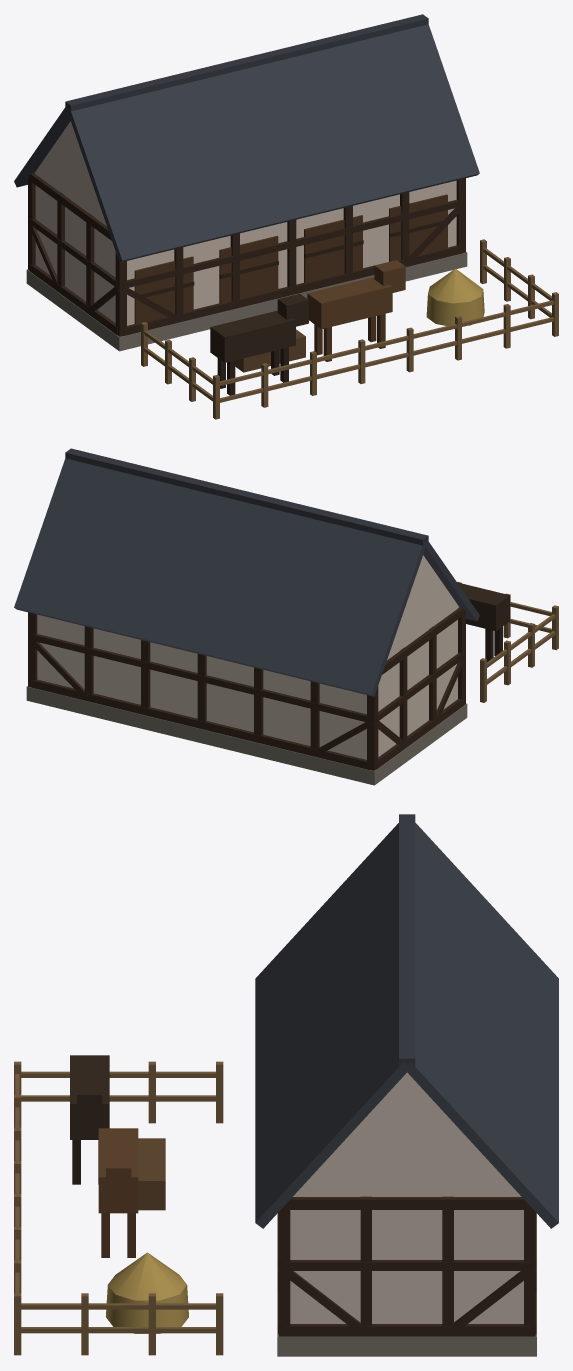
Rendered from procedural_stable@3.glb.
3 renders of one model, top to bottom at view 1: azimuth 30°, elevation 25°; view 2: azimuth 150°, elevation 25°; view 3: azimuth 270°, elevation 25°, orthographic. The views are drawn at different scales.
Parts seen in each view (by area): view 1: part_0; view 2: part_0; view 3: part_0.
Part boxes in pixels (x1,y1,x2,y2): part_0: (14, 14, 558, 419); part_0: (14, 448, 558, 785); part_0: (14, 814, 558, 1356).
Size of the model in its own units: 8.02 by 4.61 by 7.55.
